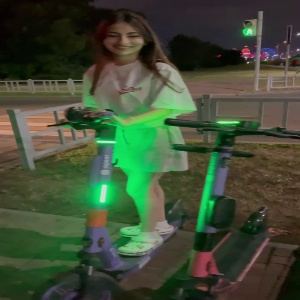human on a scooter: (27, 8, 198, 300)
